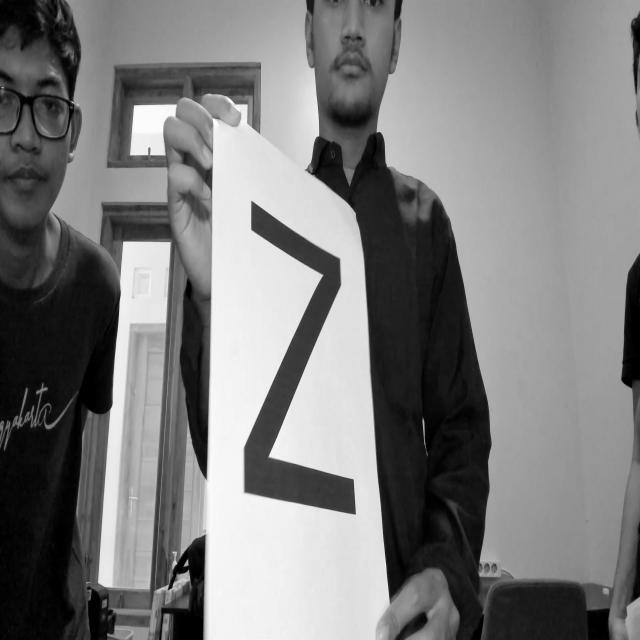z: (225, 185, 391, 547)
